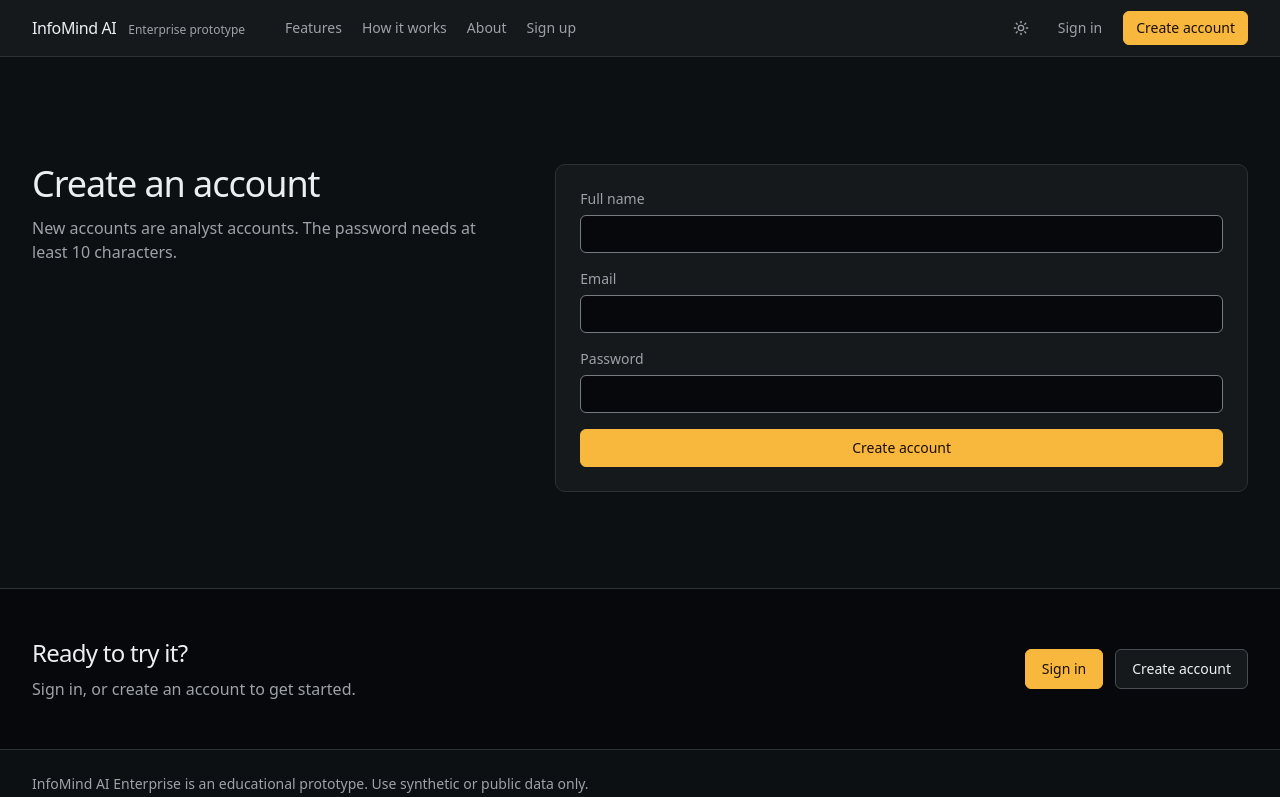
Test case: it validates, then posts the details and offers sign-in
The image size is (1280, 797).
(page scrolled)
Click the button "Create account": point(902, 448) top-left (580, 429), bottom-right (1223, 467)
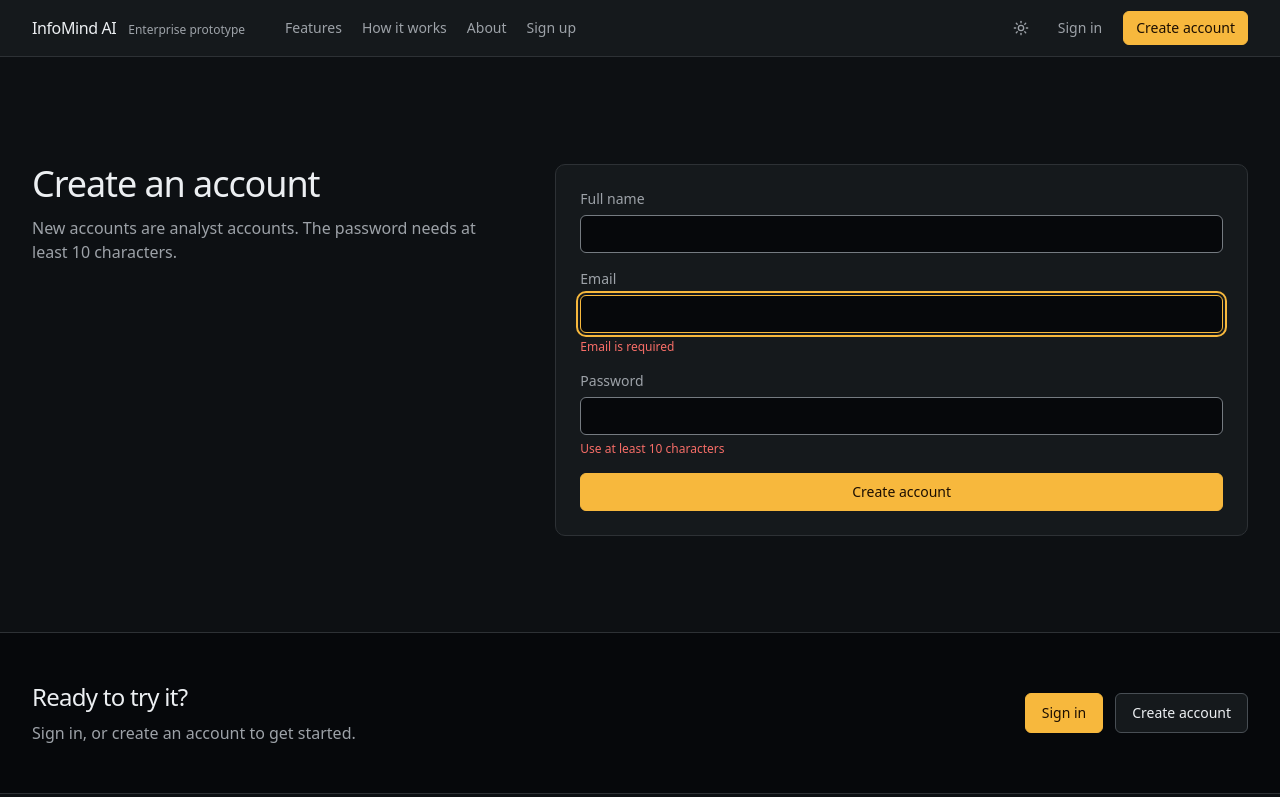
Check: the text "Email is required" is shown, box top-left (580, 338), bottom-right (674, 355)
In the field labelled "Full name": point(902, 234) top-left (580, 215), bottom-right (1223, 253), type "Ada"
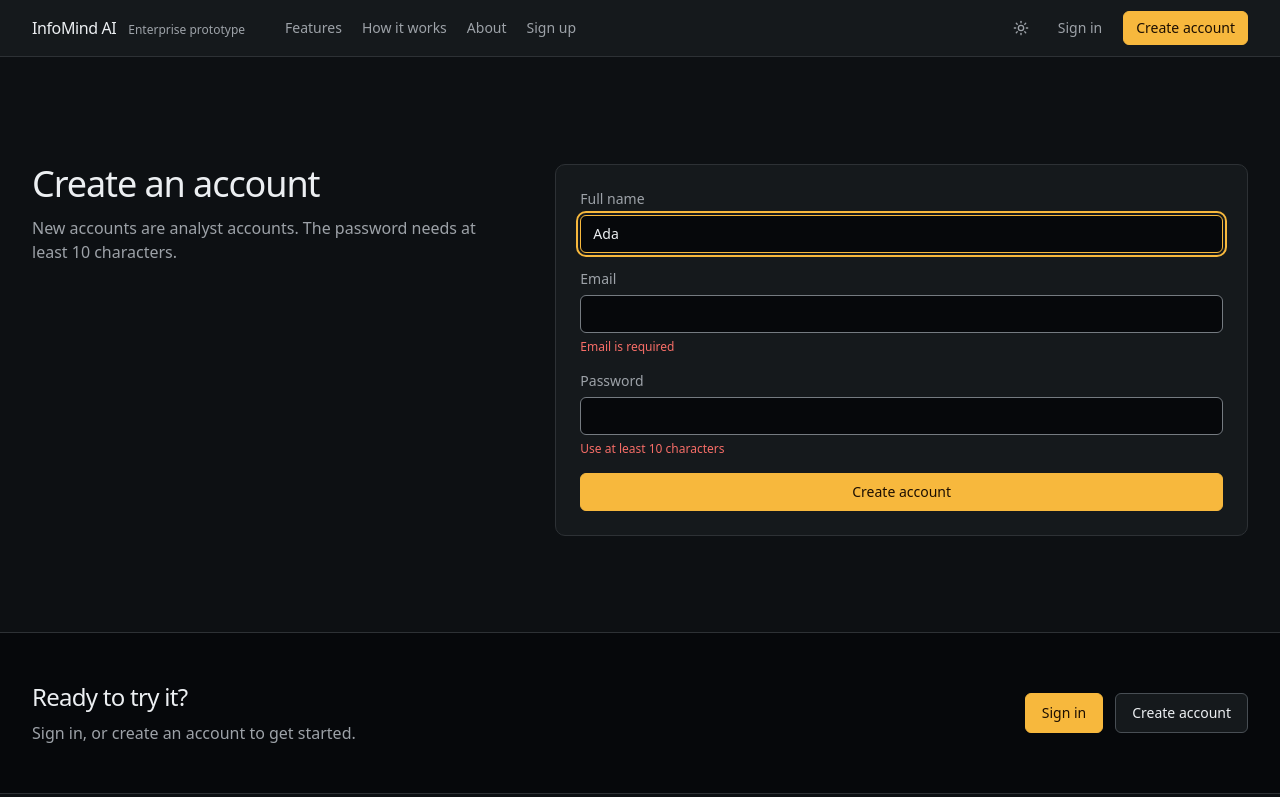
In the field labelled "Email Email is required": point(902, 314) top-left (580, 295), bottom-right (1223, 333), type "a@b.co"
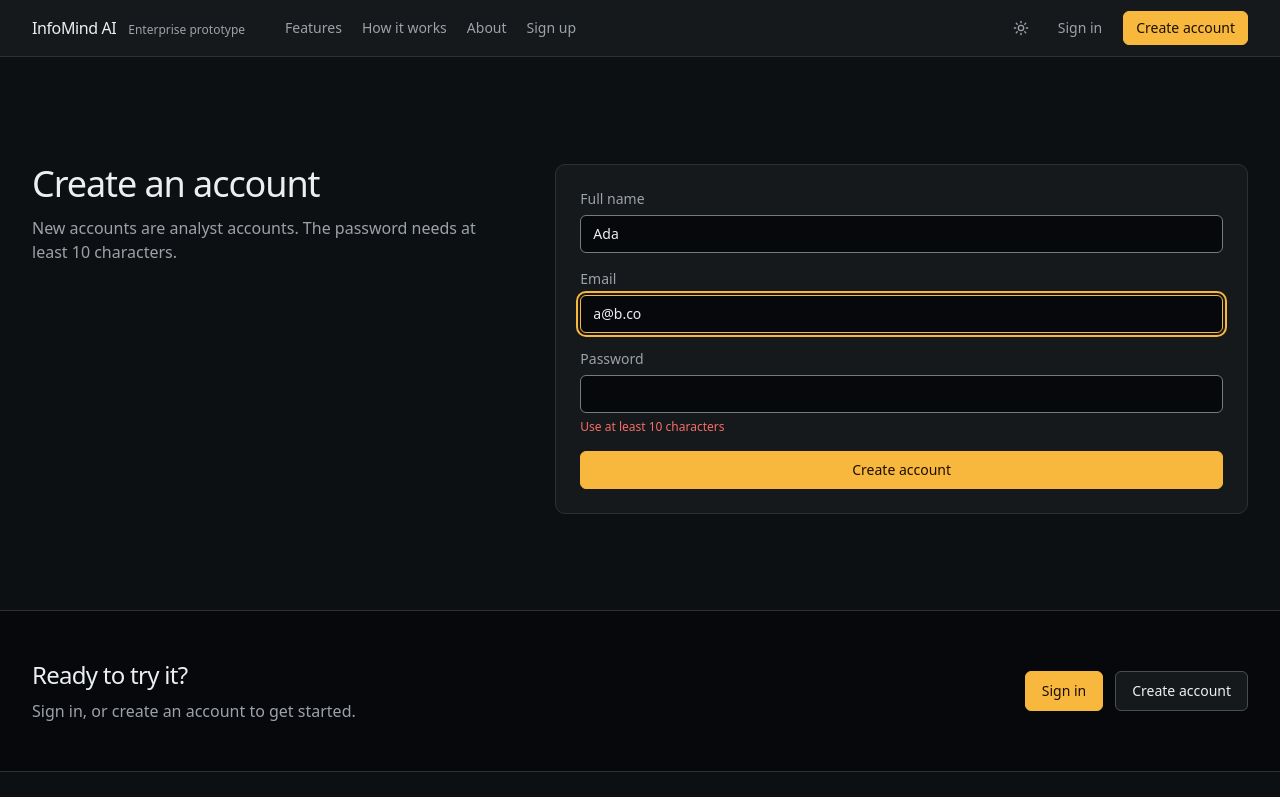
In the password field labelled "Password Use at least 10 characters": point(902, 394) top-left (580, 375), bottom-right (1223, 413), type "a-long-password"
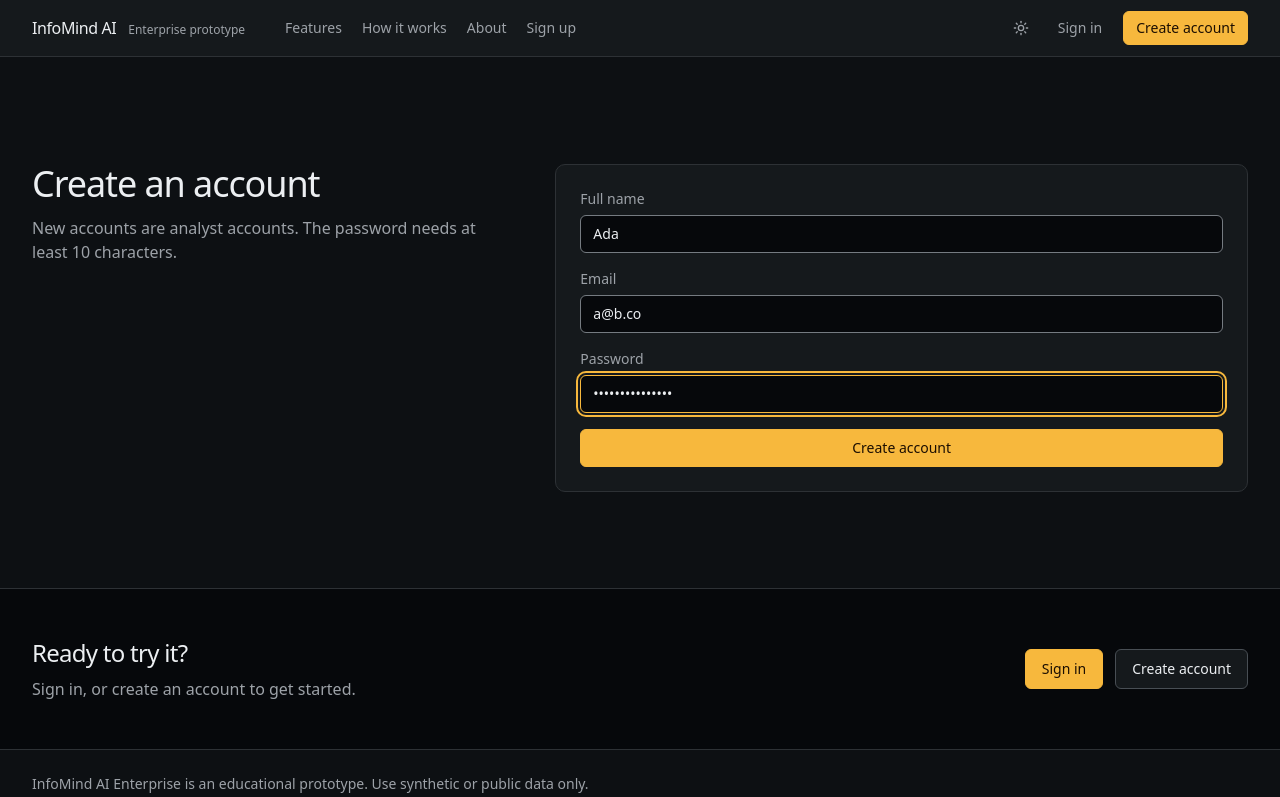
Click the button "Create account": point(902, 448) top-left (580, 429), bottom-right (1223, 467)
(page scrolled)
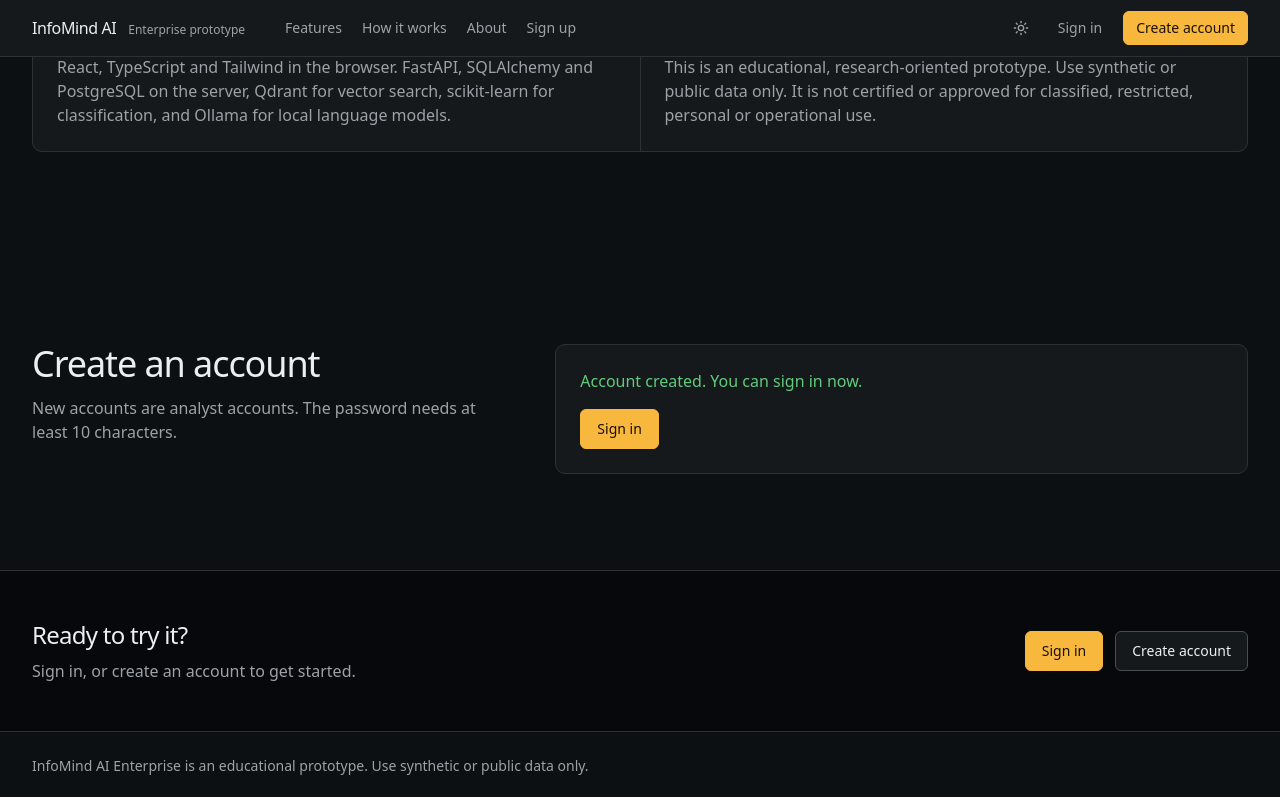
Check: the text "Account created. You can sign in now." is shown, box top-left (580, 370), bottom-right (862, 392)
